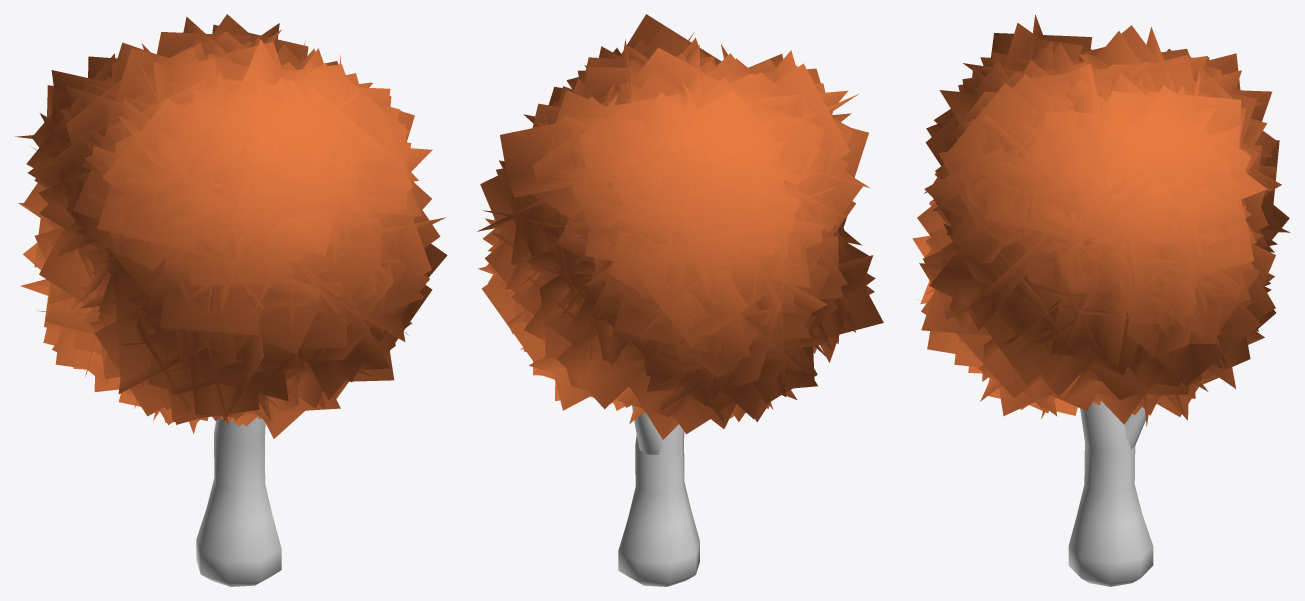
File: SM_Tree_04.fbx
The picture shows the model from 3 angles, left to right: view 1: azimuth 30°, elevation 25°; view 2: azimuth 150°, elevation 25°; view 3: azimuth 270°, elevation 25°; orthographic projection. The views are drawn at different scales.
Parts seen in each view (by area): view 1: SM_Tree_04_LOD0; view 2: SM_Tree_04_LOD0; view 3: SM_Tree_04_LOD0.
Boxes of the visible parts, bbox=[...] form: SM_Tree_04_LOD0: bbox=[15, 14, 447, 586]; SM_Tree_04_LOD0: bbox=[477, 14, 883, 586]; SM_Tree_04_LOD0: bbox=[912, 15, 1290, 586].
Bounding box in the file's own units: 484 × 724 × 481.
